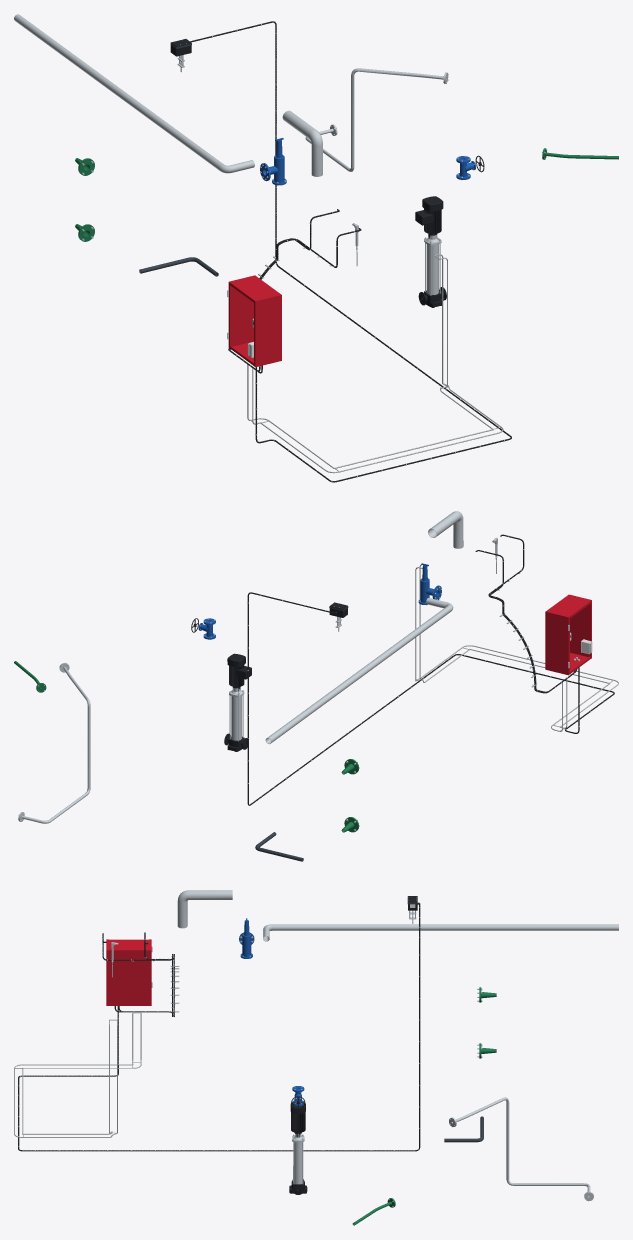
File: s4000-6-Cg3ONzj1.glb
The picture shows the model from 3 angles, top to bottom: view 1: azimuth 30°, elevation 25°; view 2: azimuth 150°, elevation 25°; view 3: azimuth 270°, elevation 25°; orthographic projection. The views are drawn at different scales.
Visible parts, largest first — view 1: control_cabinet / control_cabinet_0.npz, safety_vent_2 / steel, cables / zinc, mod_direct_drive_cable / black, trap_gap_to_bdv / steel, steam_rise / steel, pump_2 CAD solid 15, safety_1 / blue, pump_2 CAD solid 2; view 2: control_cabinet / control_cabinet_0.npz, safety_vent_2 / steel, mod_direct_drive_cable / black, cables / zinc, trap_gap_to_bdv / steel, steam_rise / steel, pump_2 CAD solid 15; view 3: control_cabinet / control_cabinet_0.npz, safety_vent_2 / steel, mod_direct_drive_cable / black, cables / zinc, trap_gap_to_bdv / steel, steam_rise / steel.
Boxes of the visible parts, x1,y1,x2,y2 form: control_cabinet / control_cabinet_0.npz: (227, 275, 281, 367); safety_vent_2 / steel: (14, 14, 254, 173); cables / zinc: (247, 254, 503, 473); mod_direct_drive_cable / black: (190, 21, 511, 482); trap_gap_to_bdv / steel: (305, 68, 448, 171); steam_rise / steel: (282, 110, 322, 176); pump_2 CAD solid 15: (415, 196, 443, 234); safety_1 / blue: (260, 138, 286, 185); pump_2 CAD solid 2: (426, 244, 438, 294); control_cabinet / control_cabinet_0.npz: (545, 594, 591, 675); safety_vent_2 / steel: (265, 598, 453, 744); mod_direct_drive_cable / black: (247, 592, 614, 805); cables / zinc: (415, 564, 618, 731); trap_gap_to_bdv / steel: (18, 662, 90, 823); steam_rise / steel: (428, 511, 463, 548); pump_2 CAD solid 15: (227, 653, 251, 687); control_cabinet / control_cabinet_0.npz: (106, 939, 152, 1005); safety_vent_2 / steel: (263, 924, 618, 941); mod_direct_drive_cable / black: (18, 903, 420, 1151); cables / zinc: (14, 1012, 141, 1137); trap_gap_to_bdv / steel: (449, 1097, 593, 1201); steam_rise / steel: (177, 890, 232, 928).
Size of the model in its own units: 5.86 by 2.95 by 7.07.
